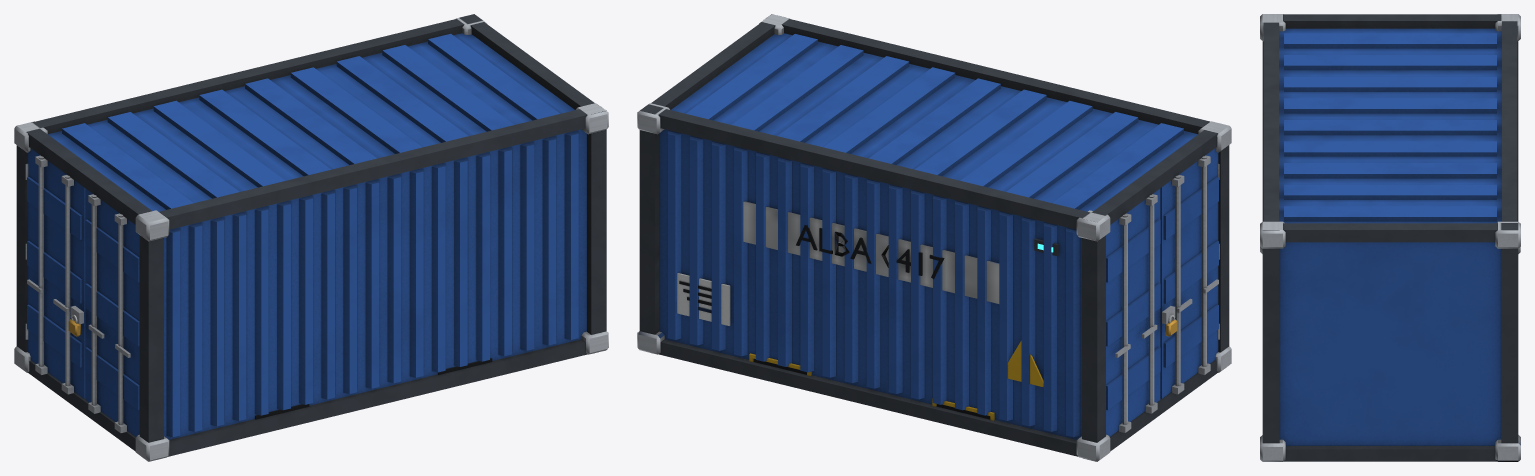
The model's file is contenedor_envio_grande.fbx.
3 views of the same model, side by side, from view 1: azimuth 30°, elevation 25°; view 2: azimuth 150°, elevation 25°; view 3: azimuth 270°, elevation 25° (orthographic). The views are drawn at different scales.
Visible parts, largest first — view 1: contenedor_envio_grande, contenedor_envio_grande_puerta_izq, contenedor_envio_grande_puerta_der; view 2: contenedor_envio_grande, contenedor_envio_grande_puerta_der, contenedor_envio_grande_puerta_izq; view 3: contenedor_envio_grande.
Part boxes in pixels (<box>): contenedor_envio_grande: <box>14,14,608,461</box>; contenedor_envio_grande_puerta_izq: <box>27,148,85,398</box>; contenedor_envio_grande_puerta_der: <box>85,189,139,436</box>; contenedor_envio_grande: <box>637,14,1231,461</box>; contenedor_envio_grande_puerta_der: <box>1160,148,1218,398</box>; contenedor_envio_grande_puerta_izq: <box>1106,189,1160,436</box>; contenedor_envio_grande: <box>1260,14,1520,461</box>.
Bounding box in the file's own units: 6.17 × 3 × 3.06.
Materials: 2 (2 with a texture image).
